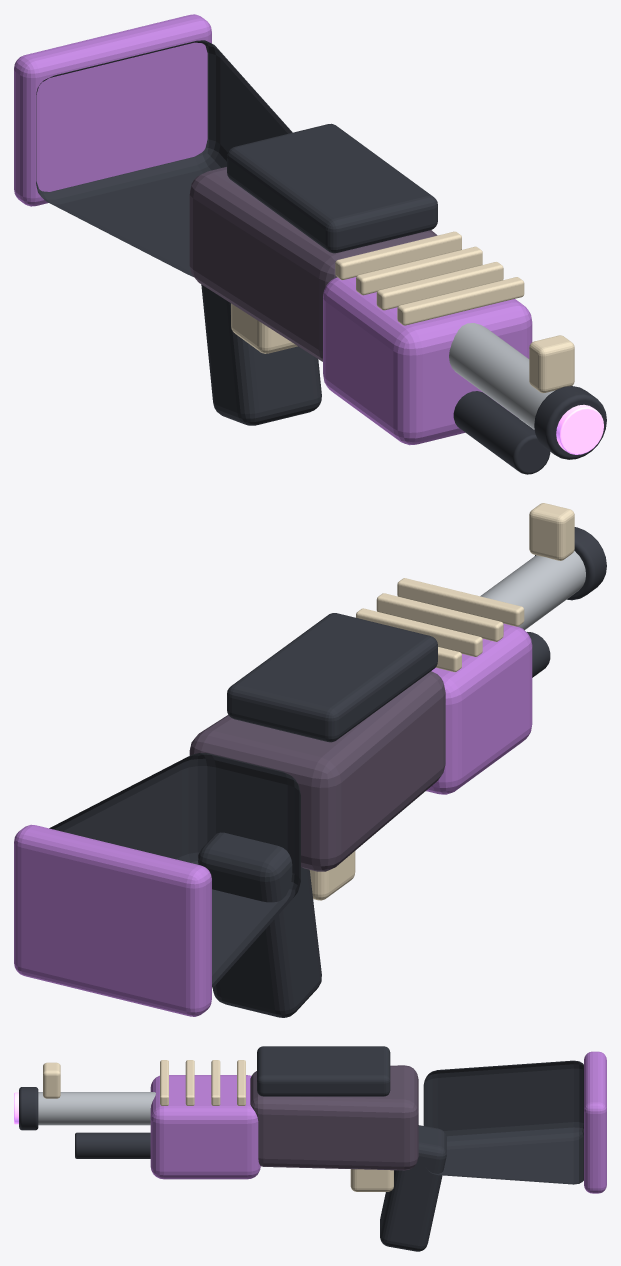
Rendered from shotgun.glb.
3 views of the same model, one above another, from view 1: azimuth 30°, elevation 25°; view 2: azimuth 150°, elevation 25°; view 3: azimuth 270°, elevation 25° (orthographic). The views are drawn at different scales.
Visible parts, largest first — view 1: StockPad, PumpBody, Receiver, ReceiverTop, Stock, Grip, MainBarrel, MagazineTube, PumpRib.003, PumpRib.002, PumpRib.001, PumpRib (+4 smaller); view 2: StockPad, Receiver, Stock, ReceiverTop, Grip, PumpBody, MainBarrel, PumpRib.003, PumpRib.002, FrontSight, PumpRib.001, ShotgunMuzzle (+1 smaller); view 3: Stock, Receiver, PumpBody, ReceiverTop, Grip, MainBarrel, StockPad, MagazineTube, TriggerGuard, ShotgunMuzzle, FrontSight, PumpRib.001 (+3 smaller).
Boxes of the visible parts, left/top/right/bottom form: StockPad: left=14, top=14, right=211, bottom=206; PumpBody: left=323, top=277, right=532, bottom=445; Receiver: left=189, top=167, right=437, bottom=361; ReceiverTop: left=227, top=123, right=437, bottom=253; Stock: left=36, top=40, right=292, bottom=276; Grip: left=201, top=284, right=321, bottom=425; MainBarrel: left=449, top=323, right=554, bottom=429; MagazineTube: left=453, top=391, right=550, bottom=474; PumpRib.003: left=397, top=277, right=524, bottom=325; PumpRib.002: left=376, top=262, right=503, bottom=310; PumpRib.001: left=356, top=246, right=482, bottom=295; PumpRib: left=335, top=231, right=461, bottom=280; StockPad: left=14, top=824, right=211, bottom=1016; Receiver: left=189, top=671, right=445, bottom=871; Stock: left=49, top=753, right=300, bottom=987; ReceiverTop: left=227, top=613, right=437, bottom=742; Grip: left=198, top=832, right=321, bottom=1017; PumpBody: left=426, top=623, right=532, bottom=794; MainBarrel: left=480, top=551, right=585, bottom=630; PumpRib.003: left=397, top=578, right=524, bottom=626; PumpRib.002: left=376, top=593, right=503, bottom=641; FrontSight: left=529, top=503, right=574, bottom=560; PumpRib.001: left=356, top=608, right=482, bottom=656; ShotgunMuzzle: left=535, top=527, right=606, bottom=600; Stock: left=423, top=1060, right=583, bottom=1184; Receiver: left=250, top=1065, right=418, bottom=1170; PumpBody: left=150, top=1075, right=260, bottom=1179; ReceiverTop: left=257, top=1046, right=390, bottom=1096; Grip: left=380, top=1125, right=446, bottom=1251; MainBarrel: left=38, top=1092, right=155, bottom=1125; StockPad: left=584, top=1051, right=606, bottom=1193; MagazineTube: left=75, top=1132, right=150, bottom=1158; TriggerGuard: left=350, top=1169, right=393, bottom=1191; ShotgunMuzzle: left=19, top=1087, right=38, bottom=1130; FrontSight: left=43, top=1062, right=60, bottom=1098; PumpRib.001: left=211, top=1060, right=220, bottom=1105.
Bounding box in the file's own units: 0.53 × 0.7817 × 2.31.
